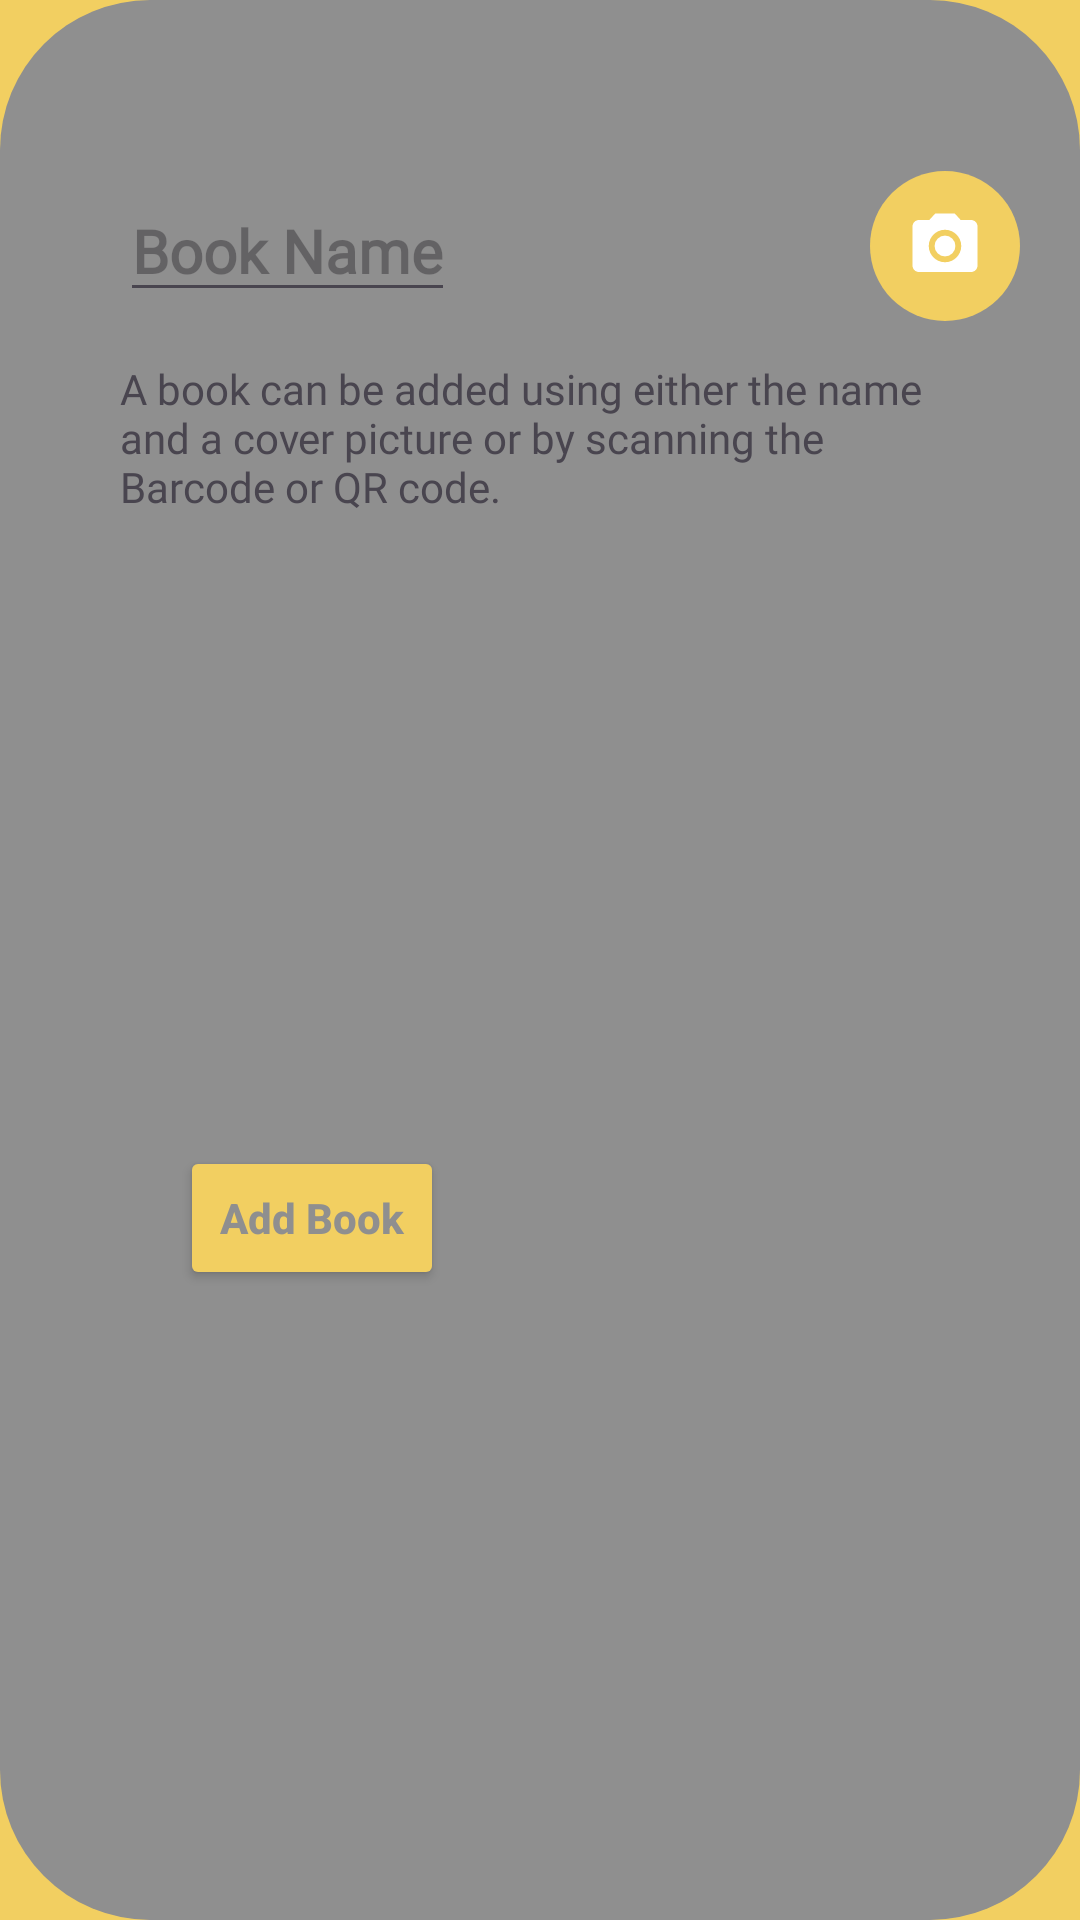

Named icons in this screenshot (1080 × 1920) and their centers, [x,y]:
camera: [945,246]
